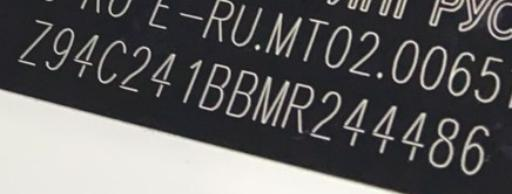letter: (250, 70, 294, 126), (426, 113, 464, 170), (224, 65, 264, 119), (278, 81, 318, 135), (118, 42, 158, 95), (197, 58, 235, 112), (308, 87, 344, 143), (368, 99, 404, 154), (17, 17, 55, 66), (40, 24, 78, 73), (94, 36, 132, 85), (399, 107, 431, 162), (339, 93, 371, 147), (147, 50, 181, 98), (176, 55, 206, 105), (72, 30, 102, 79)
